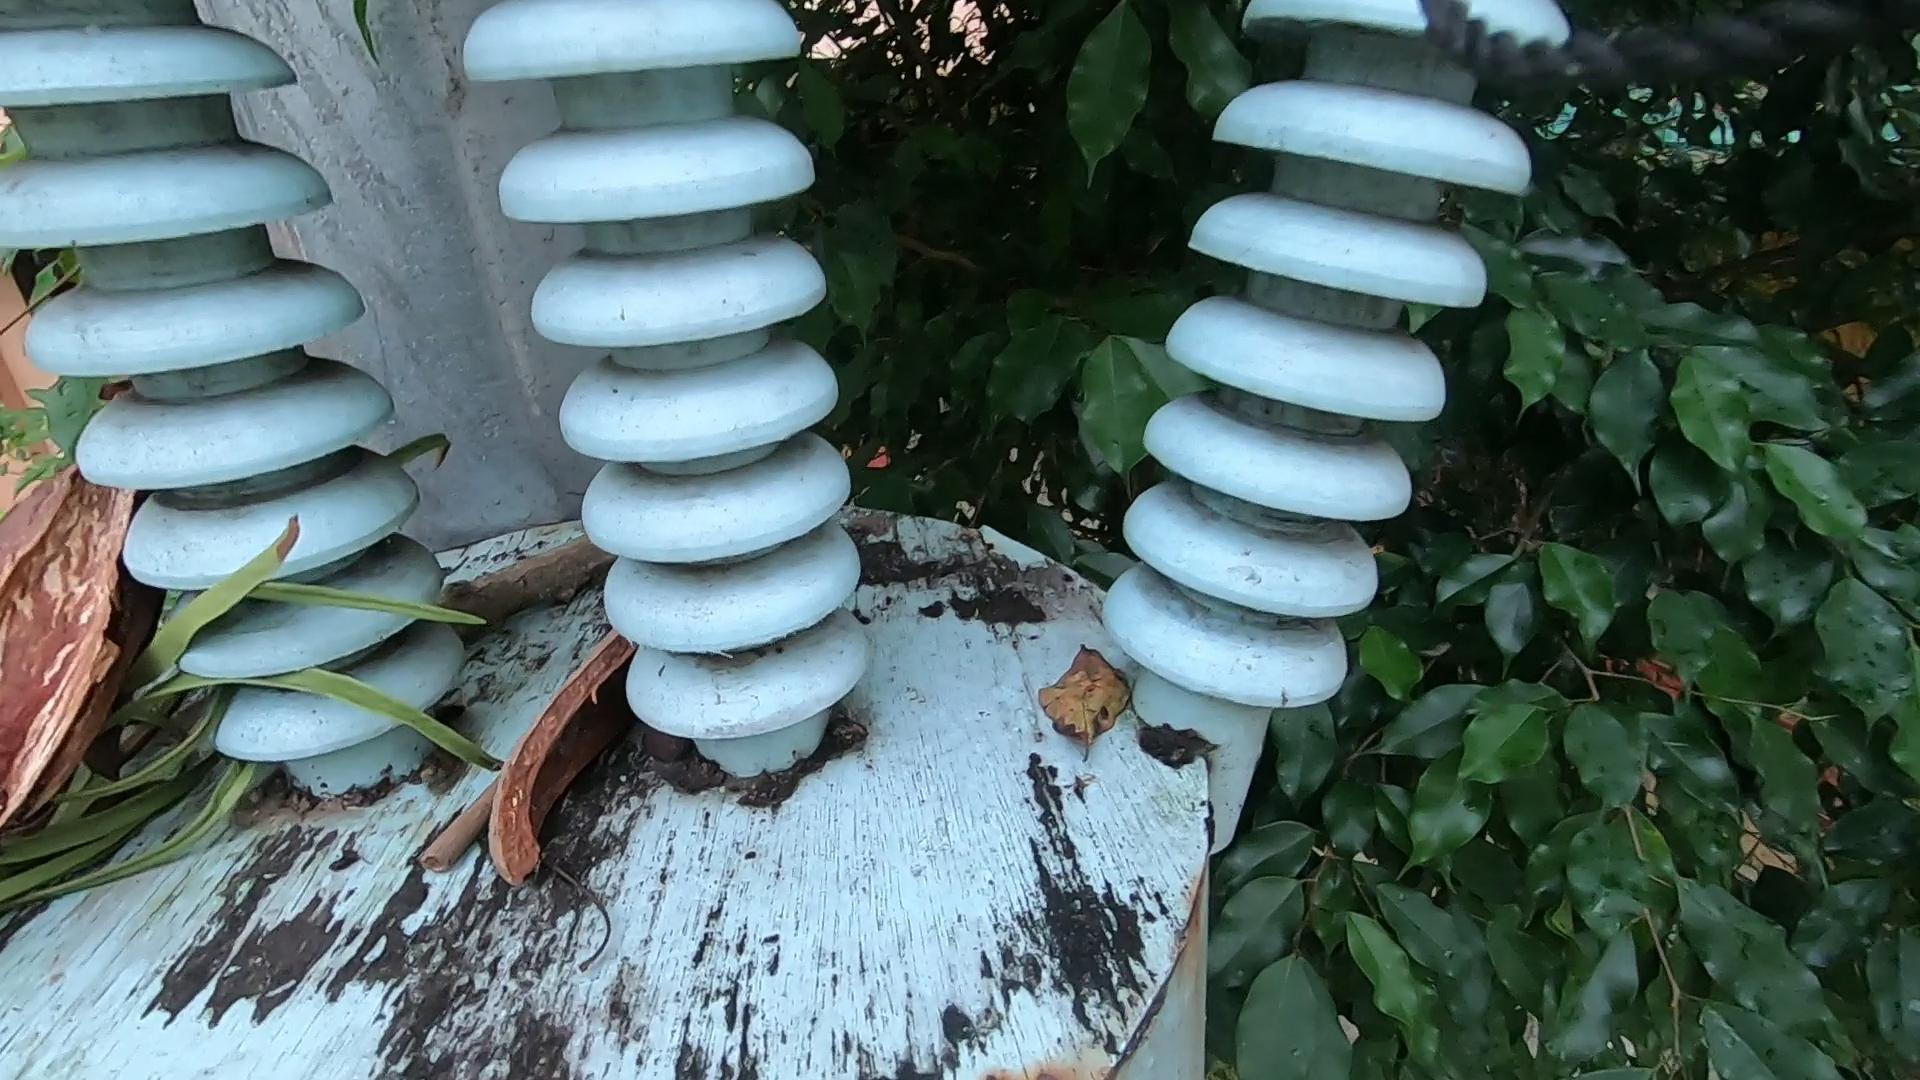branch with leaves: (1, 458, 633, 939)
leaf: (1004, 603, 1203, 799)
mahogany fruit: (1, 509, 331, 847), (439, 659, 731, 923)
tree branch: (406, 711, 595, 882)
